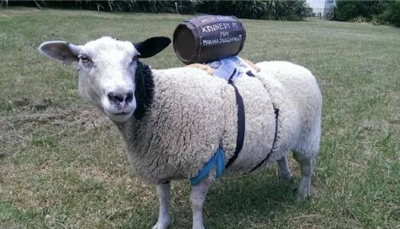koyun: (45, 34, 322, 229)
